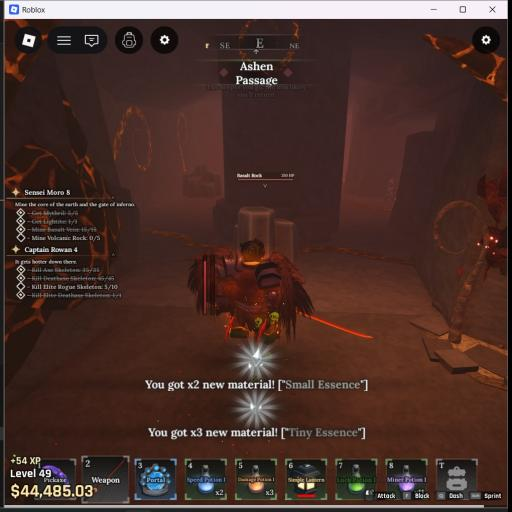player: (187, 238, 313, 342)
rock: (234, 207, 297, 262), (183, 165, 221, 197)
